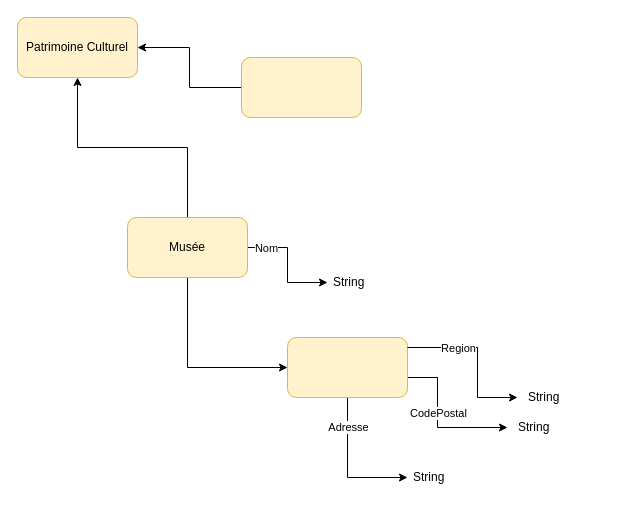
This 620x510 diagram has some shape labels left out. The centre of each missing label's shape, as x and y in pixels:
"Château" goes at (x=301, y=87).
"Lieu" goes at (x=347, y=367).
